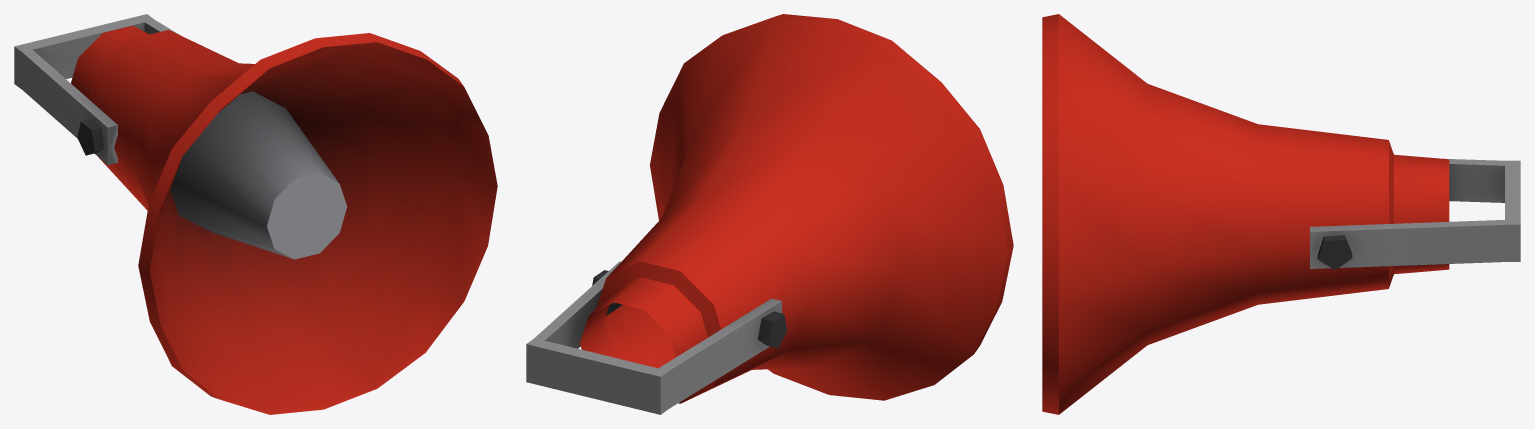
Rendered from Megaphone.fbx.
3 renders of one model, left to right at view 1: azimuth 30°, elevation 25°; view 2: azimuth 150°, elevation 25°; view 3: azimuth 270°, elevation 25°, orthographic. The views are drawn at different scales.
Parts seen in each view (by area): view 1: Object023, Cylinder006; view 2: Object023, Cylinder006; view 3: Object023, Cylinder006.
Boxes of the visible parts, x1,y1,x2,y2 form: Object023: (71, 25, 497, 414); Cylinder006: (14, 14, 180, 165); Object023: (579, 14, 1013, 403); Cylinder006: (526, 261, 787, 414); Object023: (1042, 14, 1449, 414); Cylinder006: (1310, 158, 1520, 270).
Size of the model in its own units: 39.5 by 39.25 by 46.79.
Materials: 2 (2 with a texture image).
